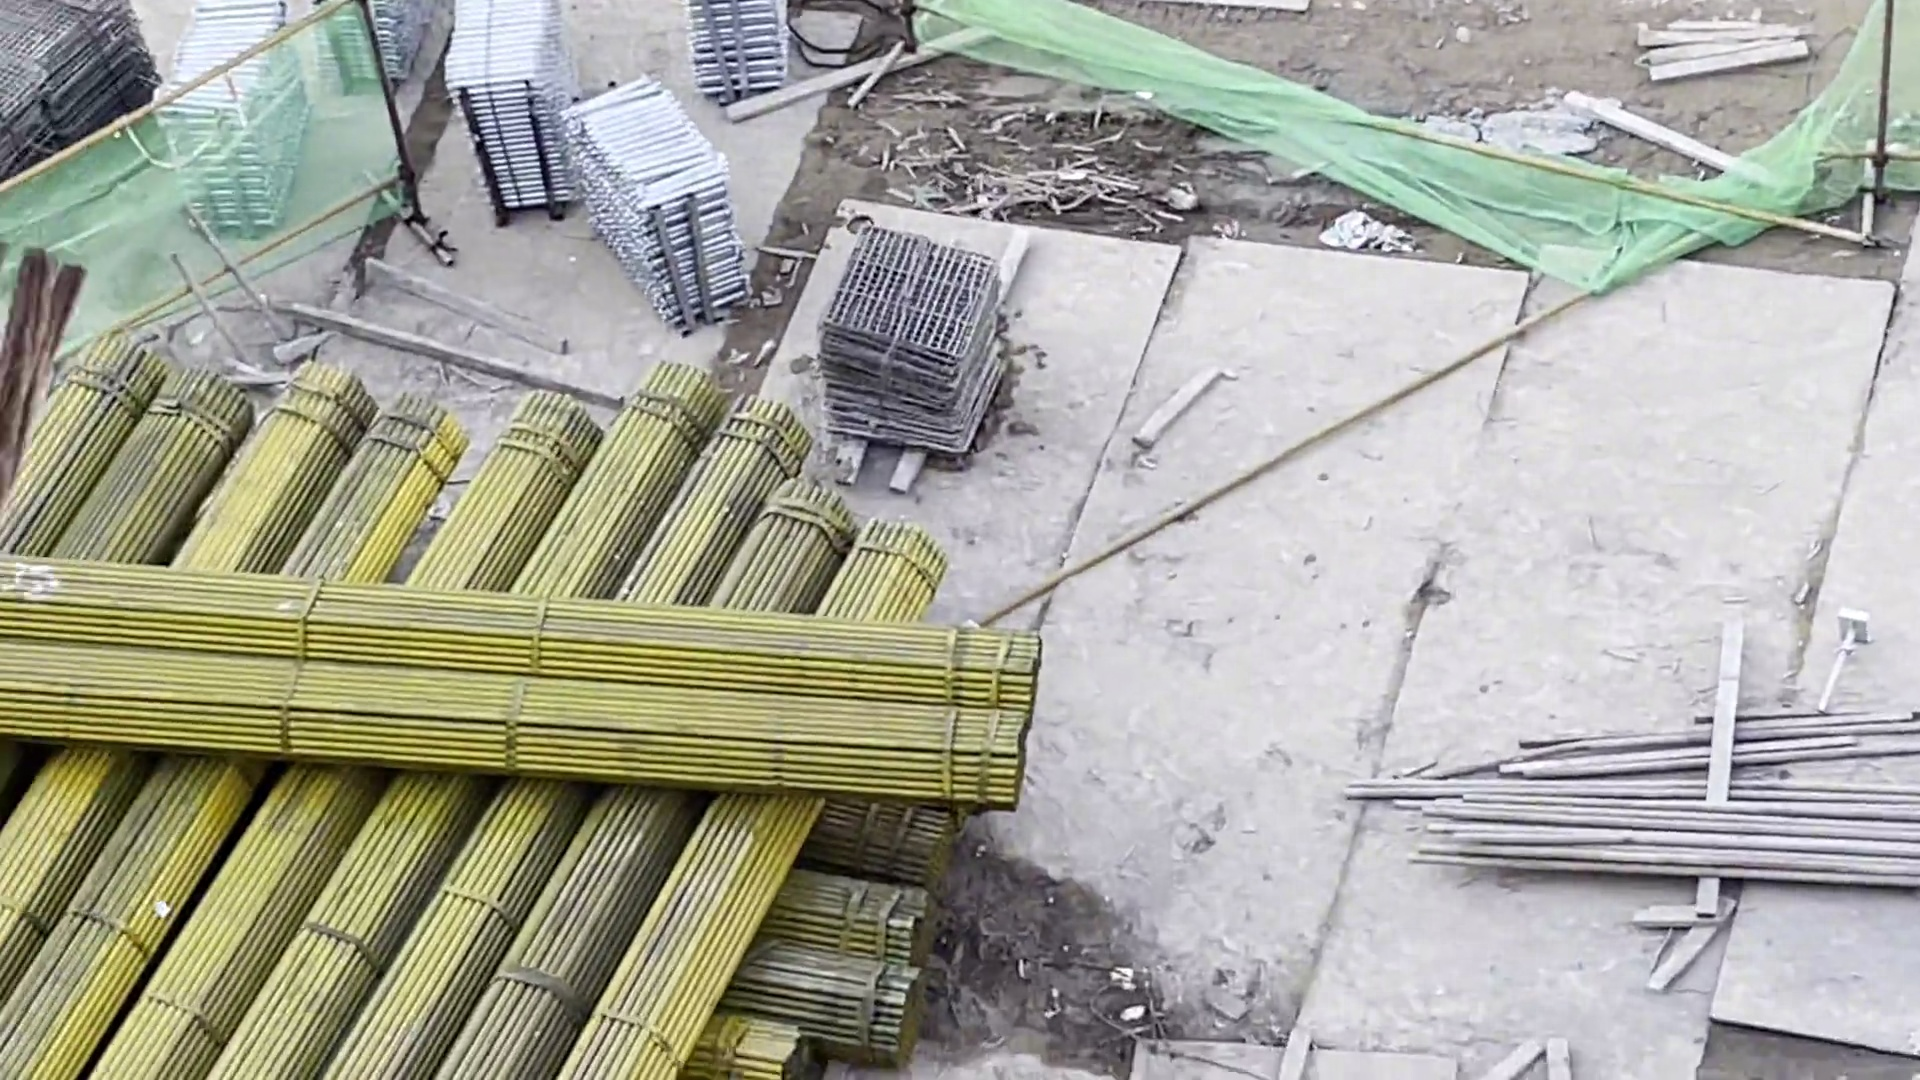scaffold: (555, 74, 760, 327), (162, 7, 306, 243), (434, 1, 578, 223)
